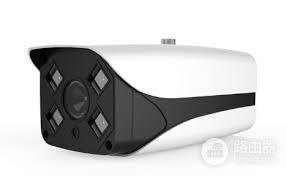tutu: (19, 33, 265, 162)
